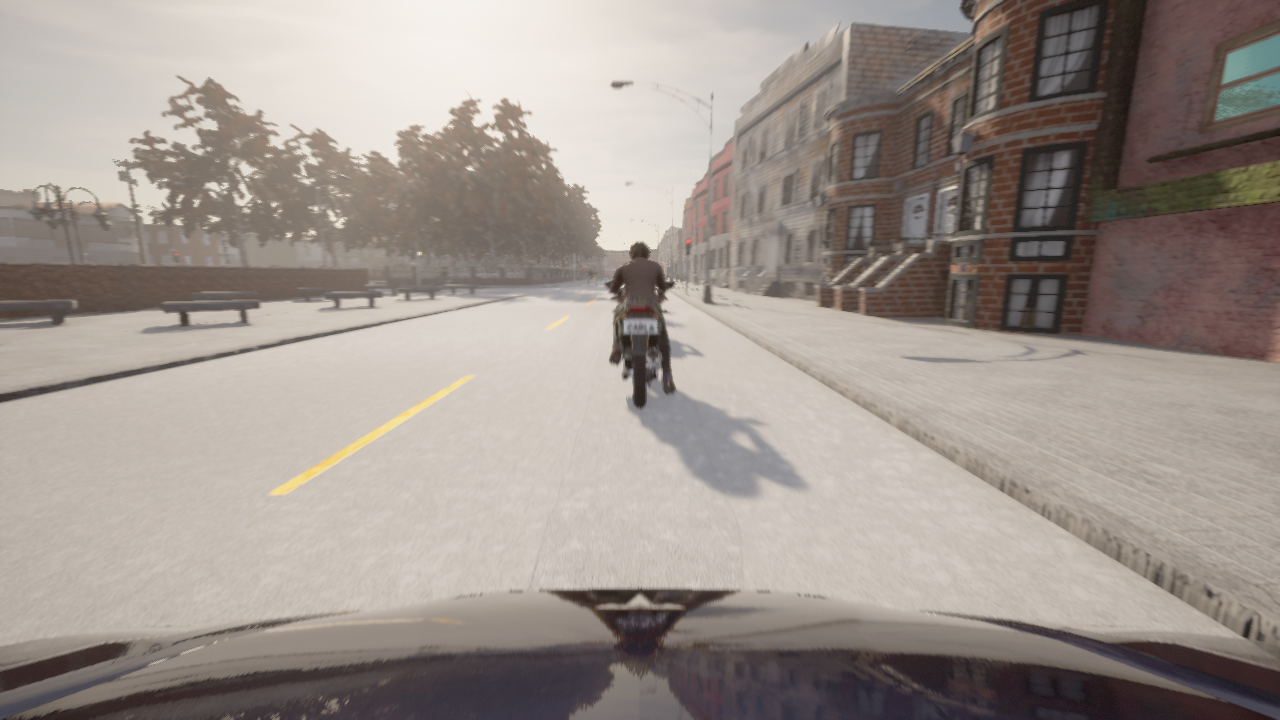cyclist: (0, 588, 1279, 719), (605, 282, 674, 407), (431, 276, 453, 287), (582, 276, 597, 289), (592, 274, 597, 286), (318, 266, 323, 267)
